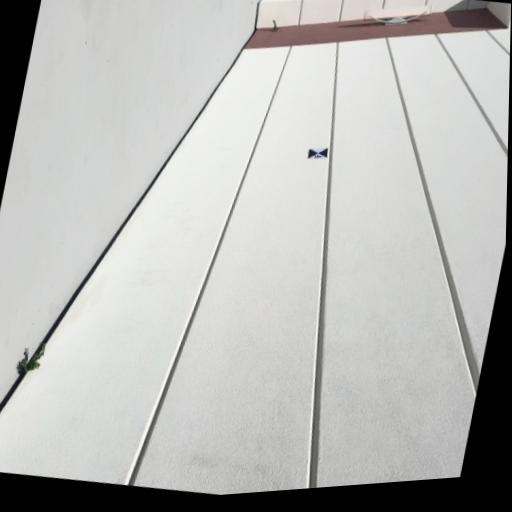target4: (307, 146, 328, 159)
